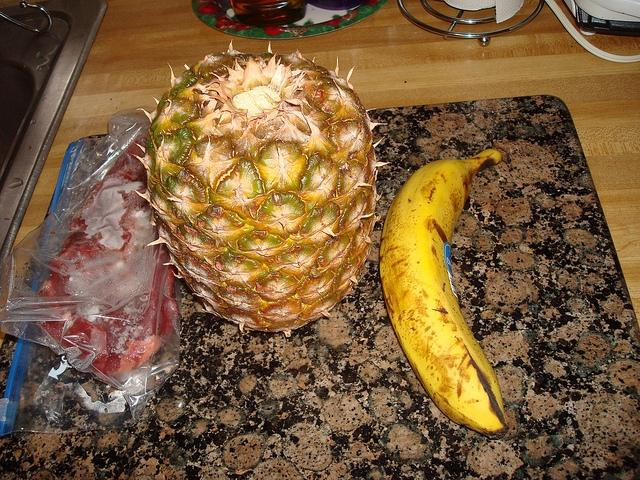banana: (380, 149, 510, 440)
pineapple: (131, 39, 393, 338)
